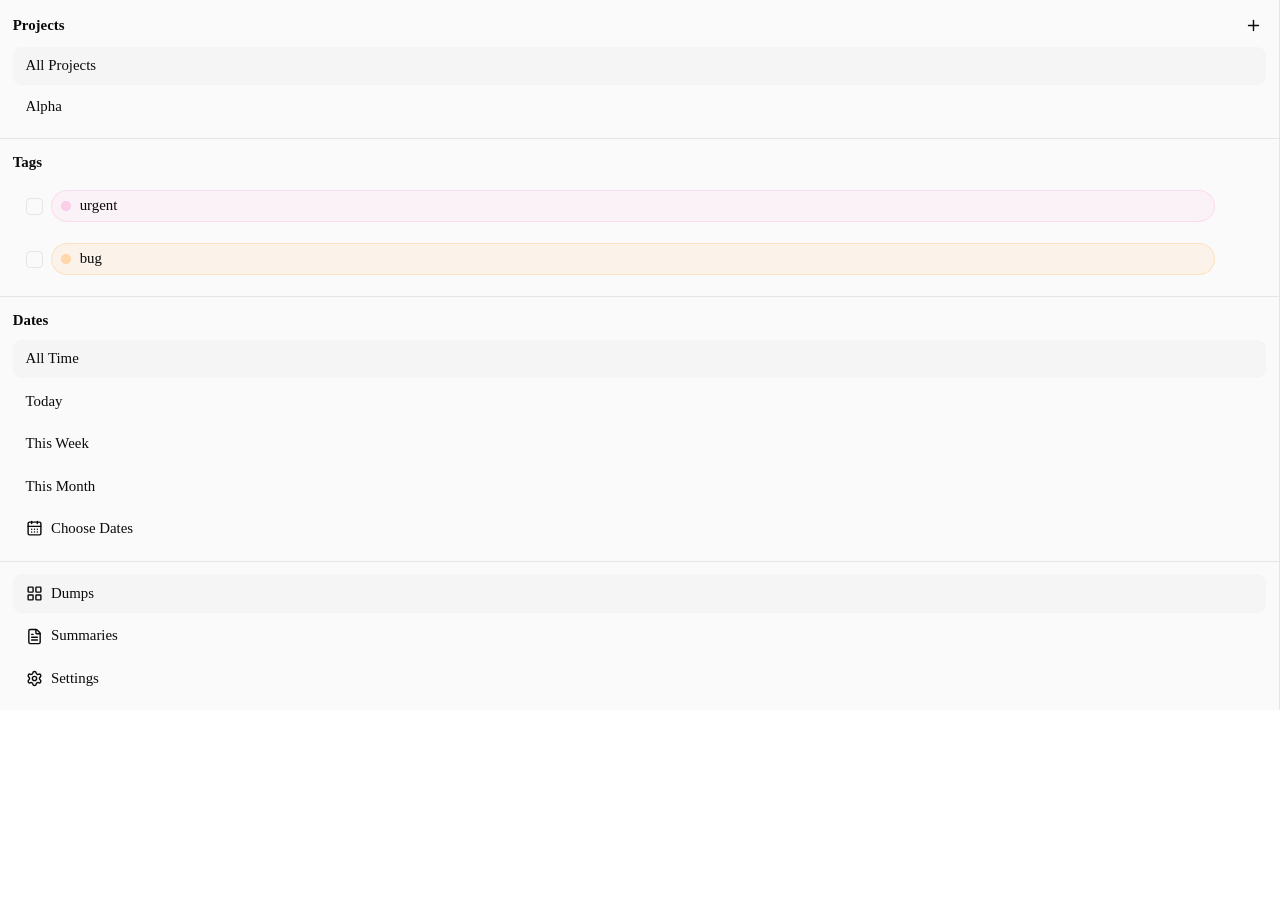
Test: Sidebar › keeps the context menu open when project deletion fails
Right-click the button titled "Alpha" at coordinates (44, 106), box [13,87,1266,125]
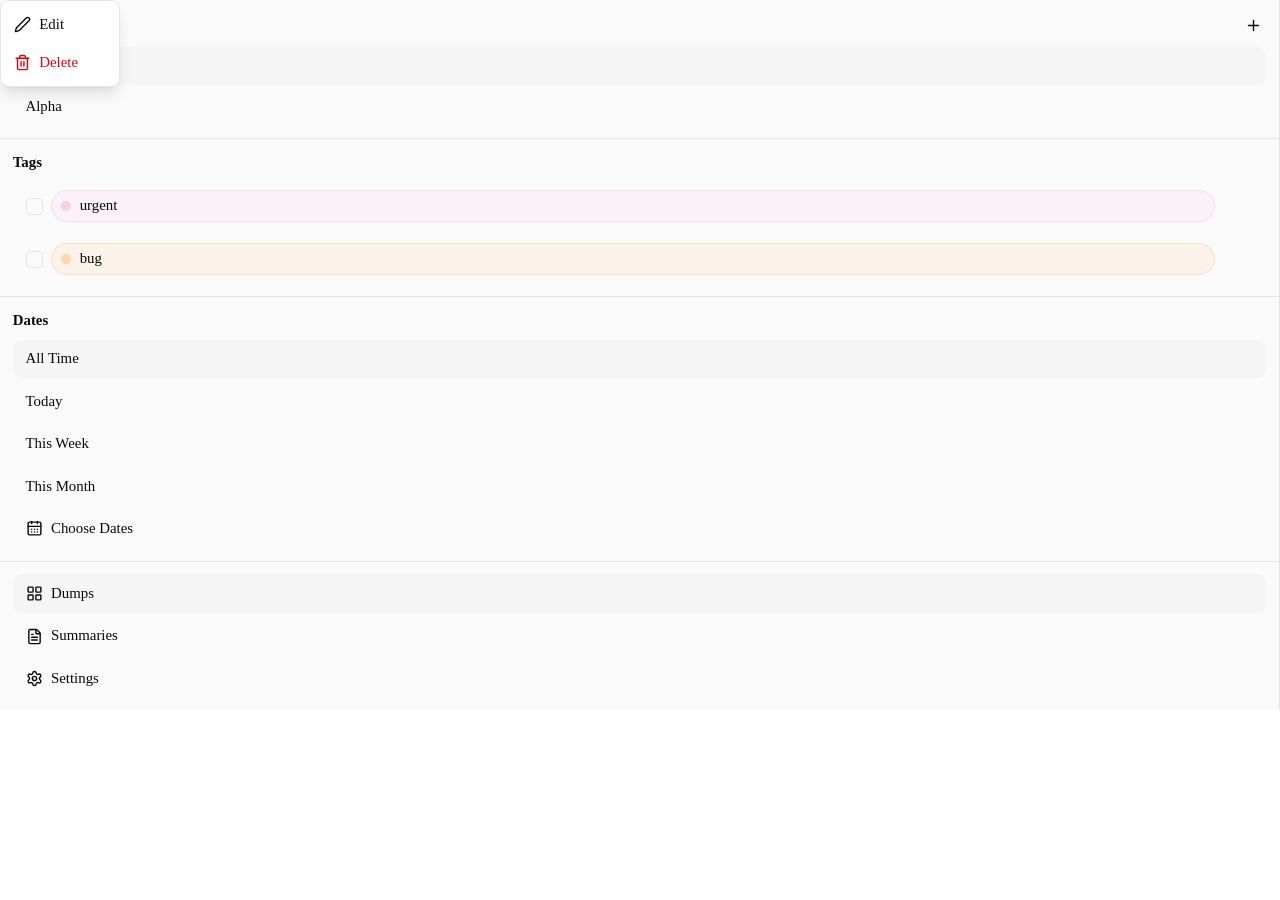
Click the button "Delete". click: coordinates (60, 63)
box: [1,44,119,82]
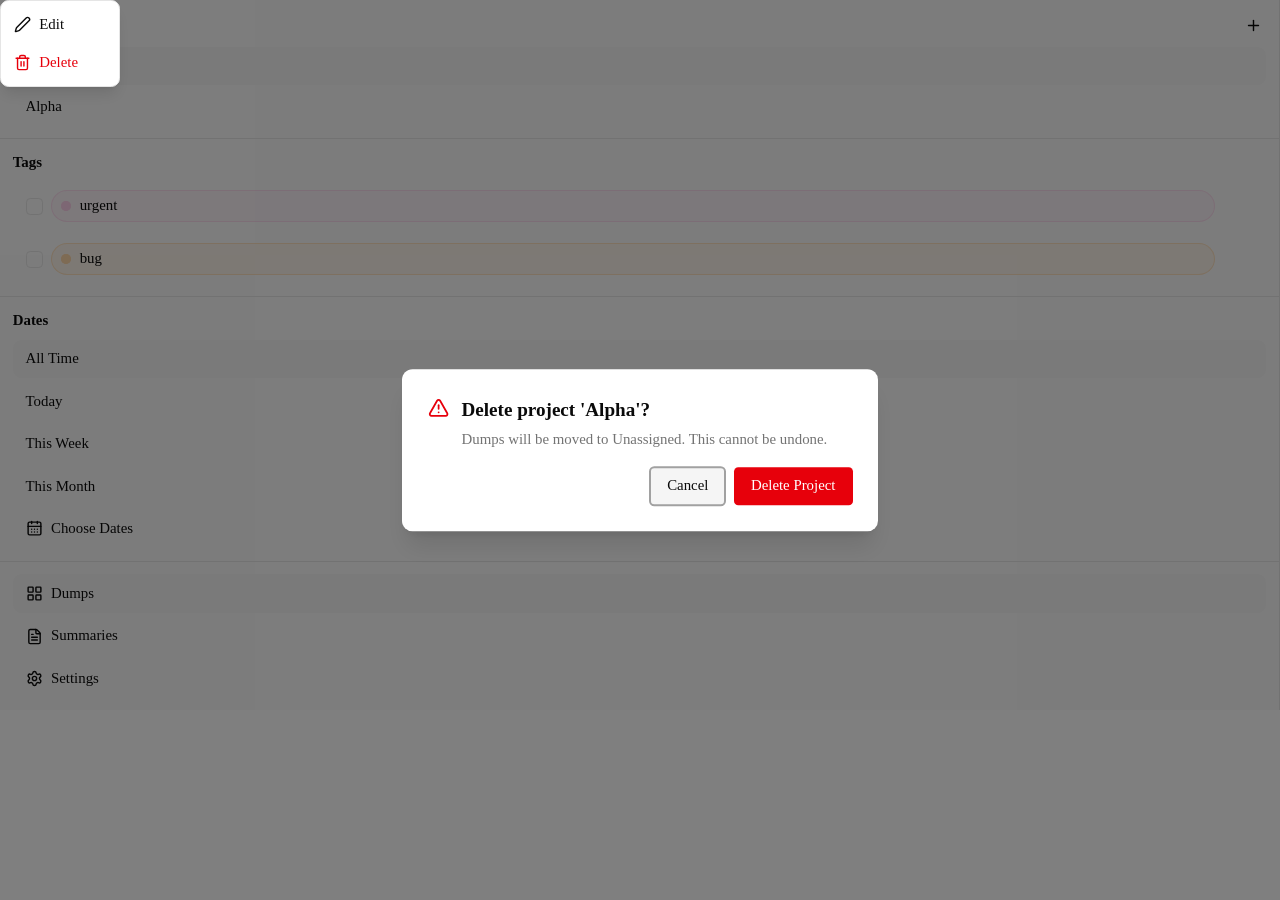
Click the button "Delete Project". click: coordinates (793, 486)
box: [734,467,852,505]
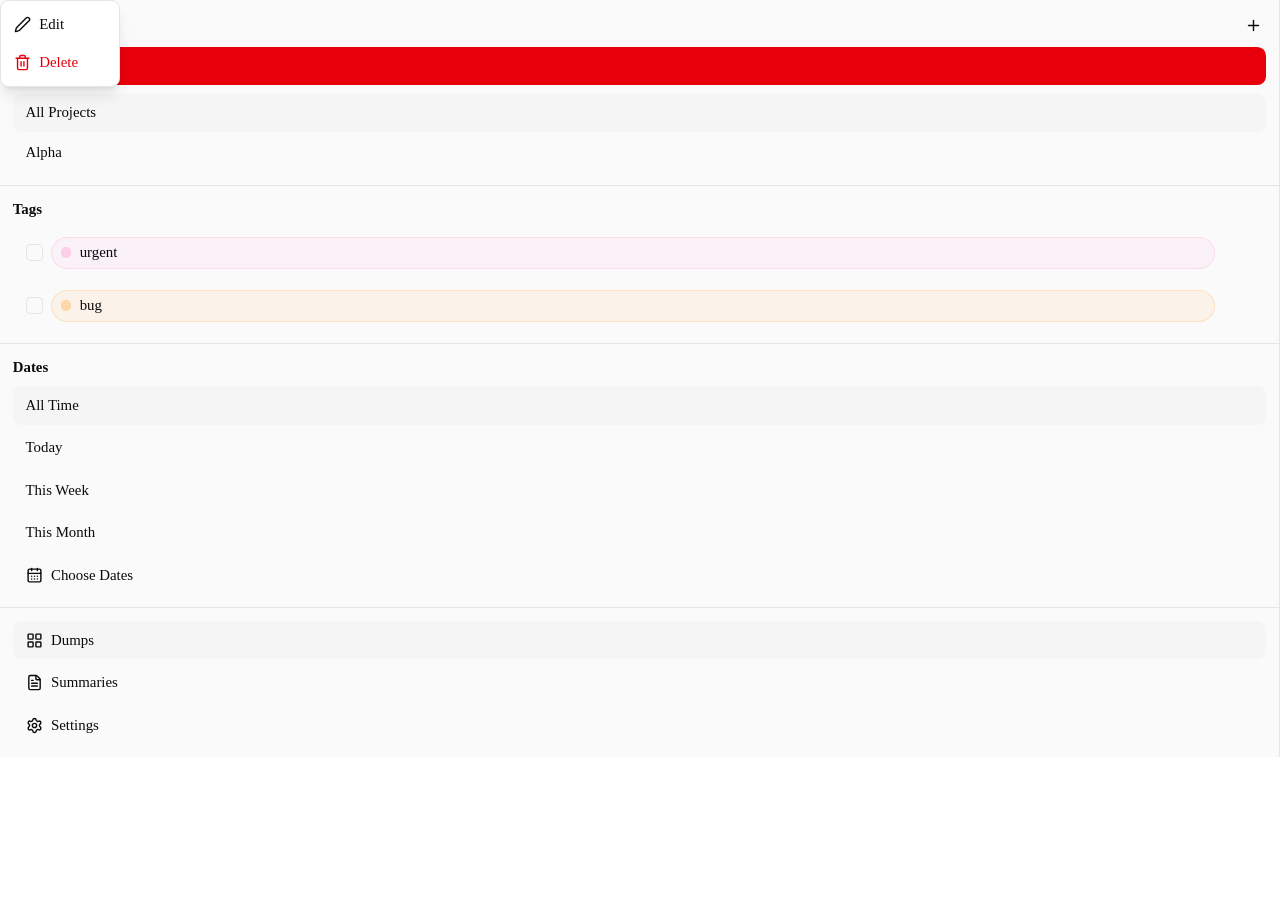
expect the button "Delete" is shown: met, box [1,44,119,82]
expect the text "Delete failed" is shown: met, box [13,47,1266,85]
